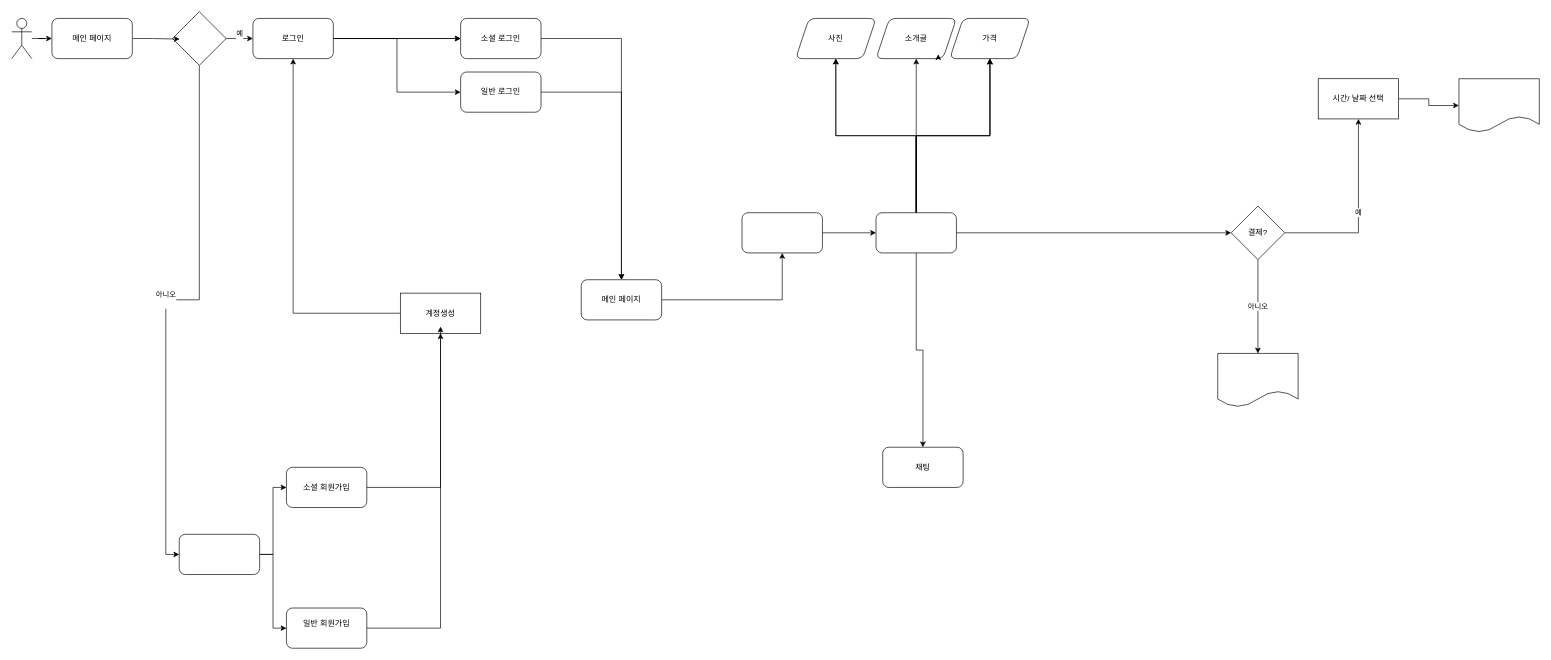
Image size: 1551x660. Some labels were removed from this diagram. Each missing label, with the centre of its shape:
Actor: the point at 21,38
결제 완료: the point at 1498,105
계정?: the point at 199,38
이전 페이지: the point at 1257,380
자전거 빌림 page: the point at 781,232
자전거 상세 표시: the point at 915,232
회원가입: the point at 219,554
